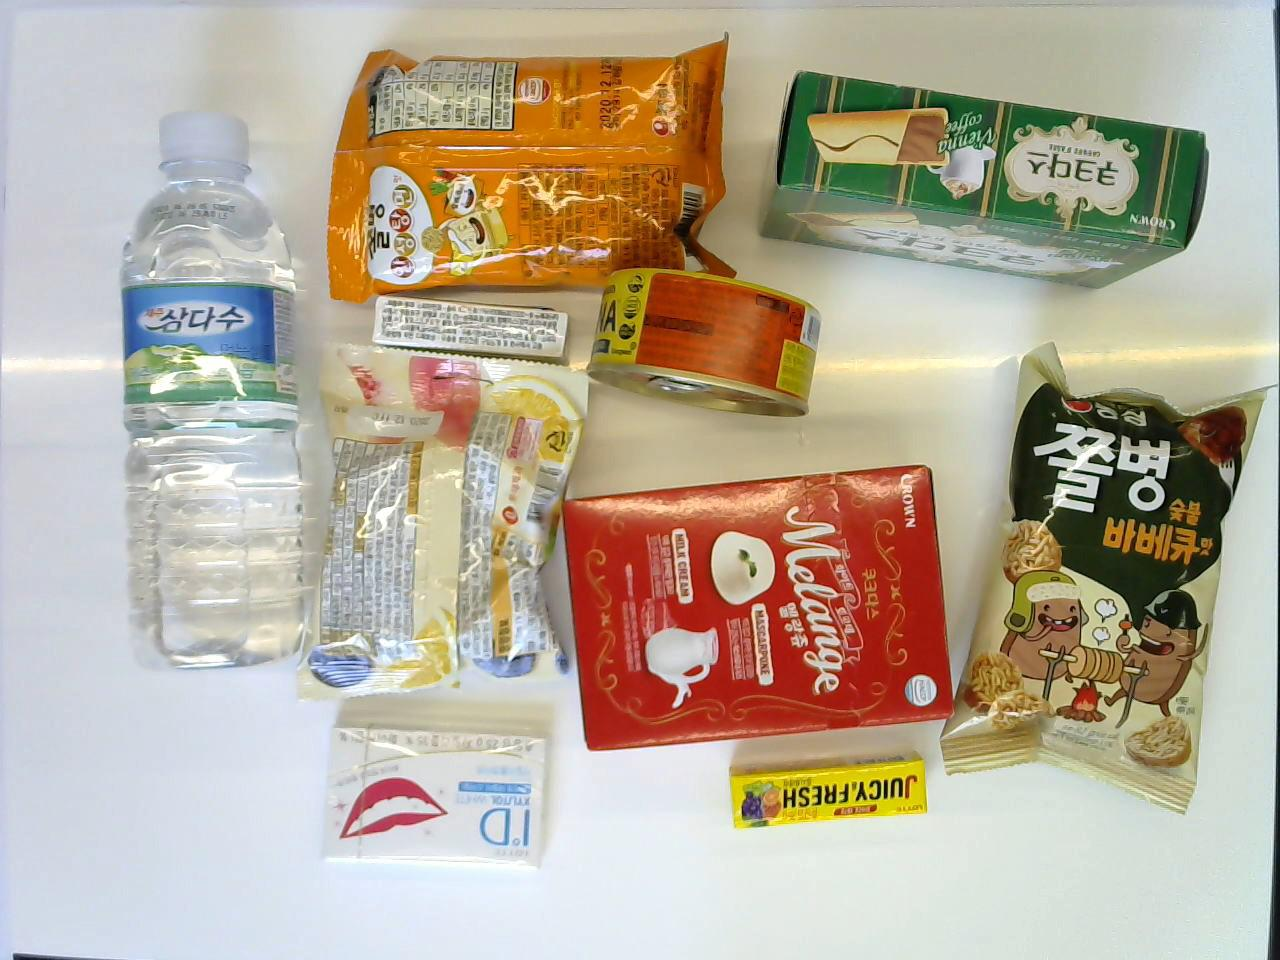ID_gum: (316, 720, 552, 869)
couque_coffee: (756, 66, 1211, 290)
couque_white: (560, 459, 955, 753)
gumi_gumi: (308, 333, 583, 705)
jjolbyung_noodle: (324, 30, 739, 307)
jjolbyung_ori: (940, 339, 1271, 816)
juicyfresh: (728, 753, 929, 832)
samdasu: (118, 106, 313, 672)
spearmint: (368, 288, 573, 366)
tuna: (583, 269, 826, 419)
